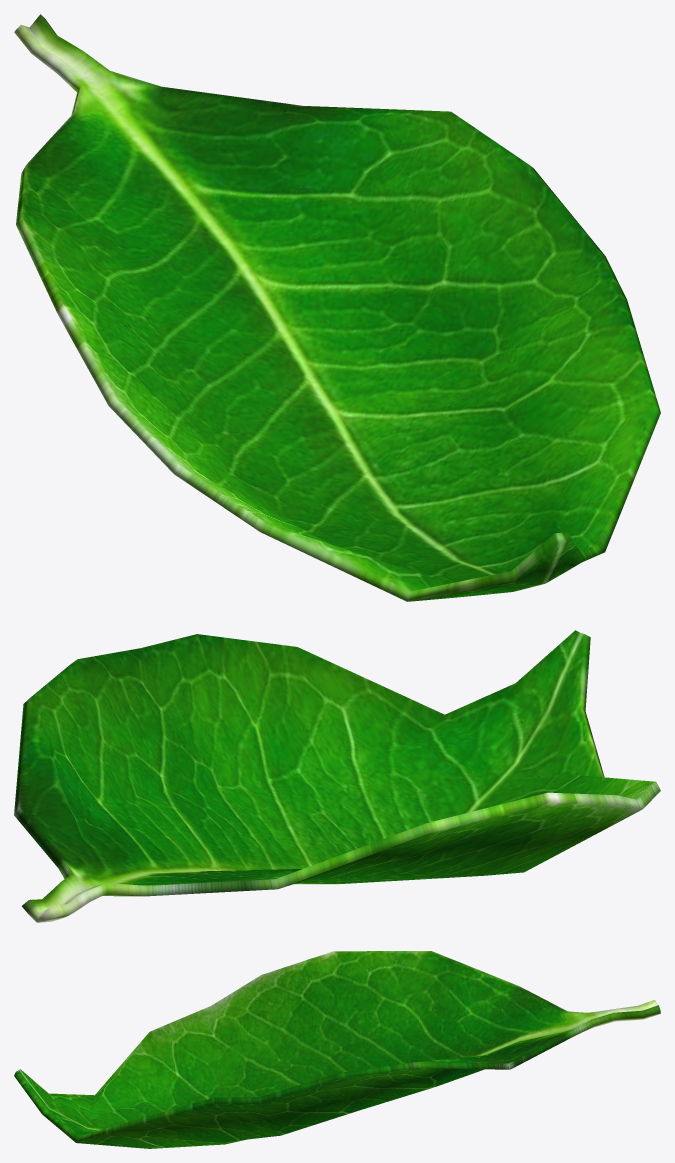
File: leaf_boat.glb
3 views of the same model, one above another, from view 1: azimuth 30°, elevation 25°; view 2: azimuth 150°, elevation 25°; view 3: azimuth 270°, elevation 25° (orthographic). The views are drawn at different scales.
Parts seen in each view (by area): view 1: Leafy; view 2: Leafy; view 3: Leafy.
Boxes of the visible parts, x1,y1,x2,y2 form: Leafy: (14,14,660,601); Leafy: (14,630,660,922); Leafy: (14,951,660,1148).
Size of what is drawn, in the model's own units: 4.27 by 2.04 by 8.14.
Materials: 1 (1 with a texture image).
